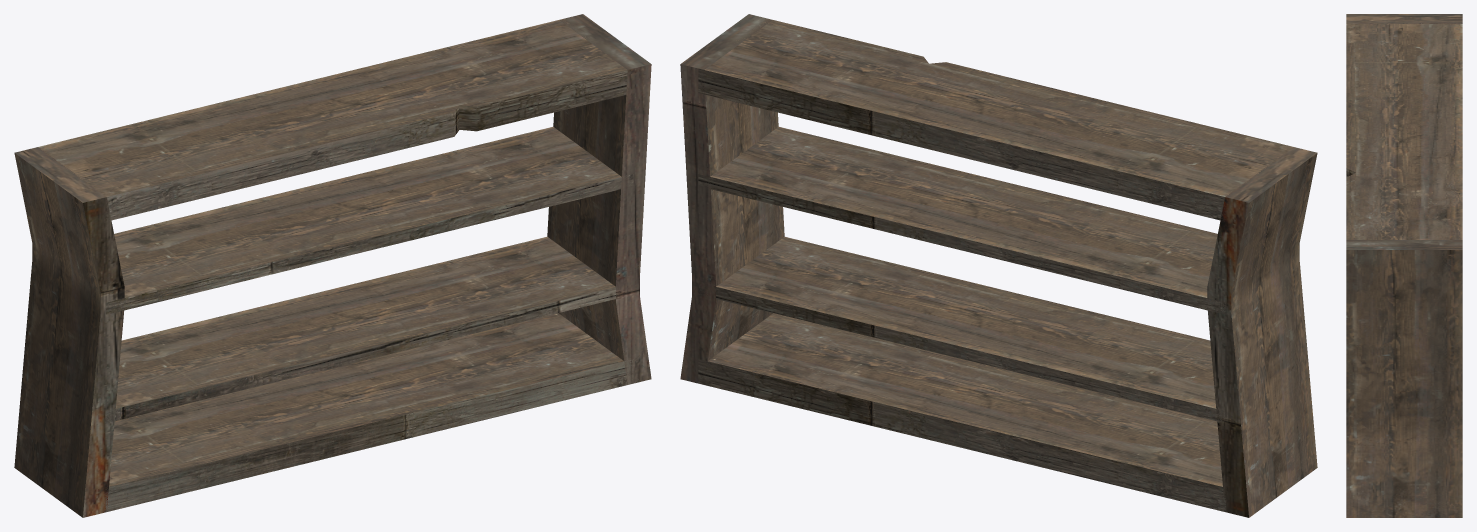
The model's file is Shelf.fbx.
3 views of the same model, side by side, from view 1: azimuth 30°, elevation 25°; view 2: azimuth 150°, elevation 25°; view 3: azimuth 270°, elevation 25° (orthographic). The views are drawn at different scales.
Visible parts, largest first — view 1: Shelf; view 2: Shelf; view 3: Shelf.
Part boxes in pixels (left/top/right/bottom): Shelf: left=14, top=14, right=651, bottom=517; Shelf: left=680, top=14, right=1317, bottom=517; Shelf: left=1346, top=14, right=1462, bottom=517.
Bounding box in the file's own units: 2.12 × 1.12 × 0.4422.
Materials: 1 (1 with a texture image).
